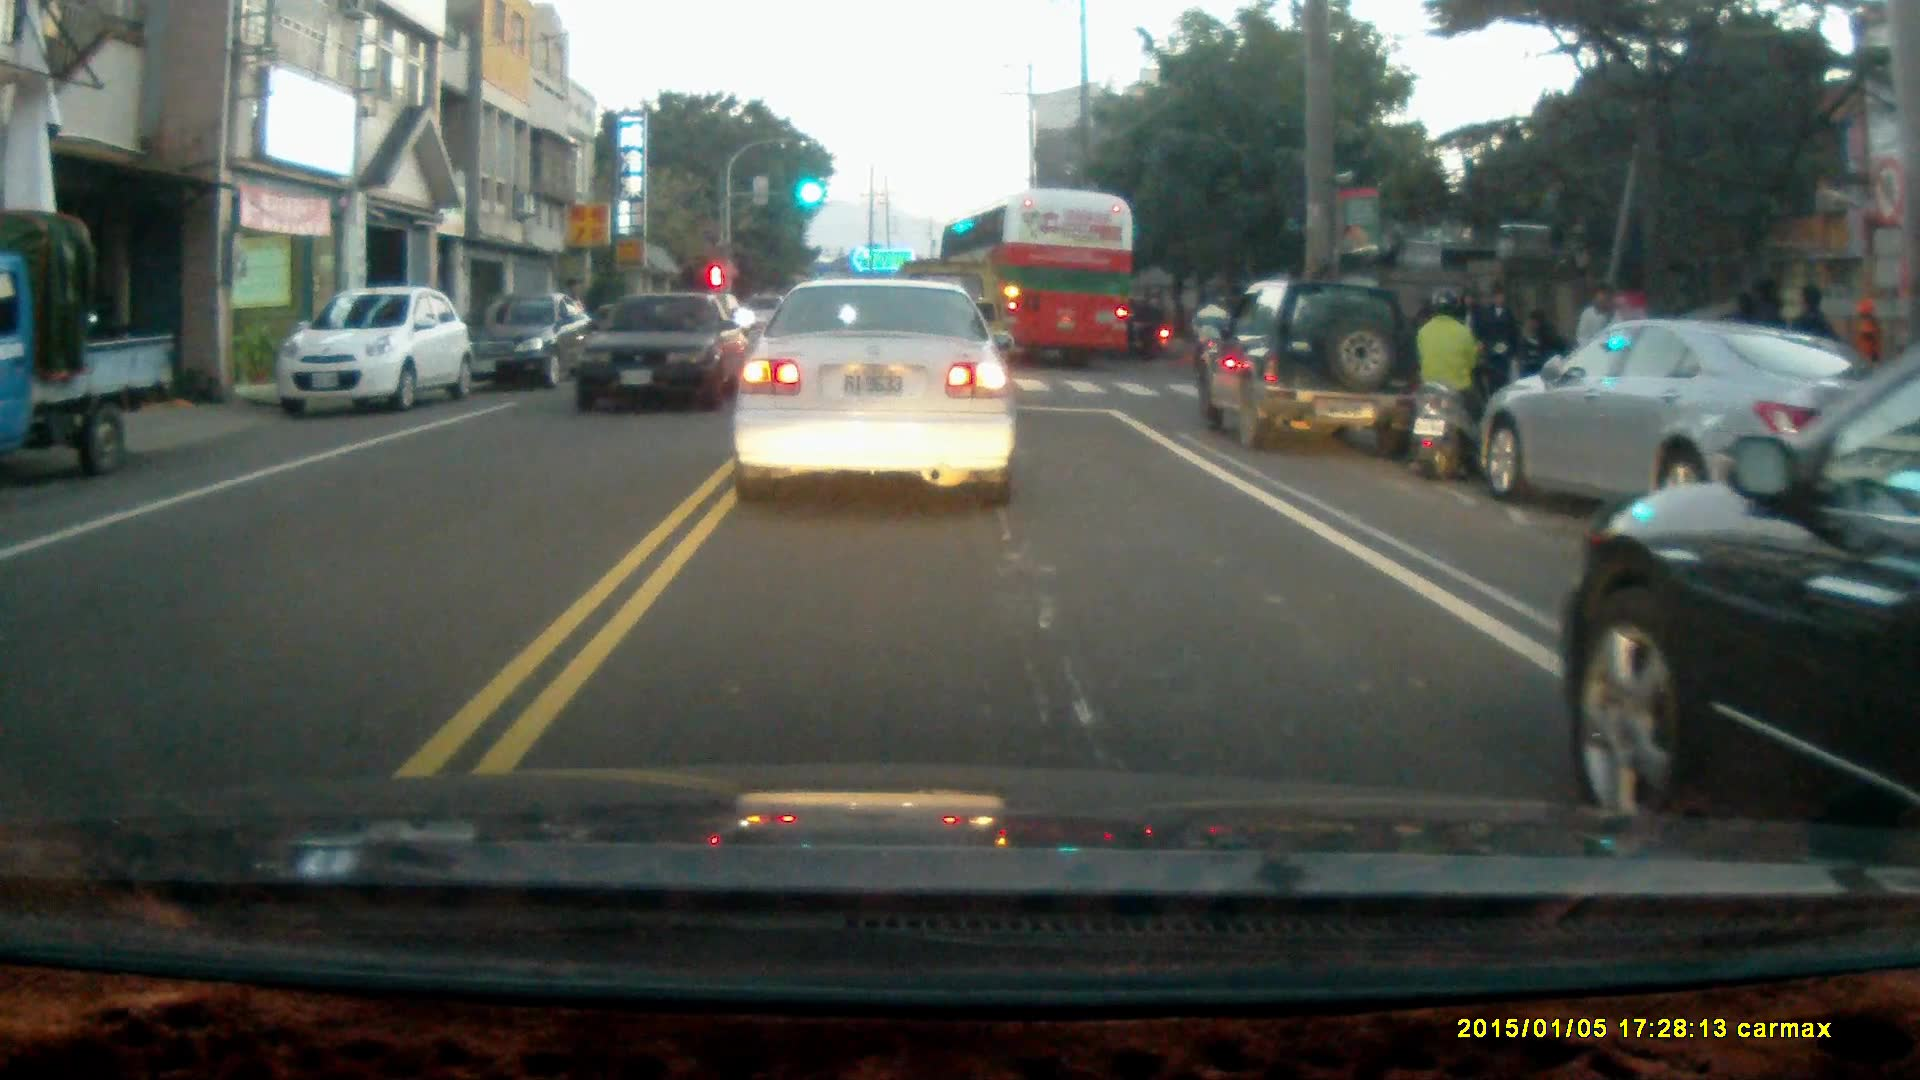pedestrian: (1567, 276, 1628, 409), (1475, 283, 1524, 417)
rider: (1409, 283, 1495, 483), (1113, 293, 1172, 359), (1190, 291, 1230, 372)
vehicle: (1575, 373, 1920, 814), (1481, 319, 1876, 534), (727, 271, 1021, 509), (1, 213, 180, 479), (1198, 275, 1430, 453), (942, 188, 1142, 370), (278, 288, 472, 413), (572, 286, 743, 415), (471, 288, 593, 388)
